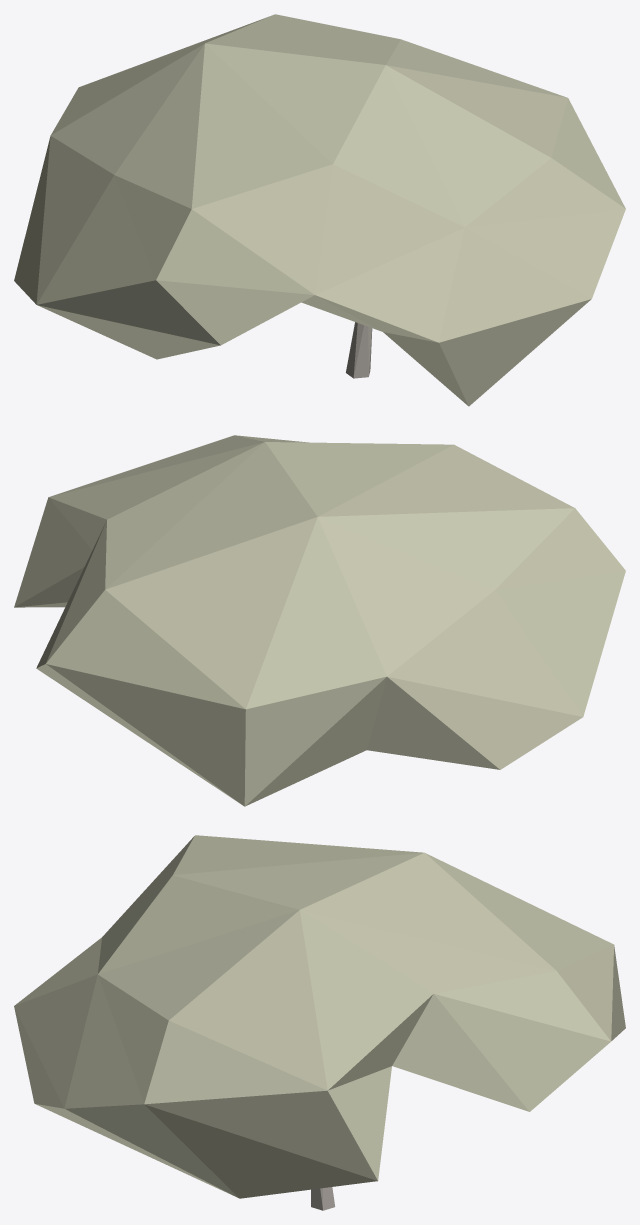
Rendered from AcaciaTortilis.glb.
3 renders of one model, top to bottom at view 1: azimuth 30°, elevation 25°; view 2: azimuth 150°, elevation 25°; view 3: azimuth 270°, elevation 25°, orthographic. The views are drawn at different scales.
Visible parts, largest first — view 1: Crown, Trunk; view 2: Crown; view 3: Crown.
Part boxes in pixels (<box>): Crown: <box>14,14,625,406</box>; Trunk: <box>346,322,372,378</box>; Crown: <box>14,435,625,806</box>; Crown: <box>14,835,625,1198</box>.
Bounding box in the file's own units: 32.59 × 18.44 × 33.54.
